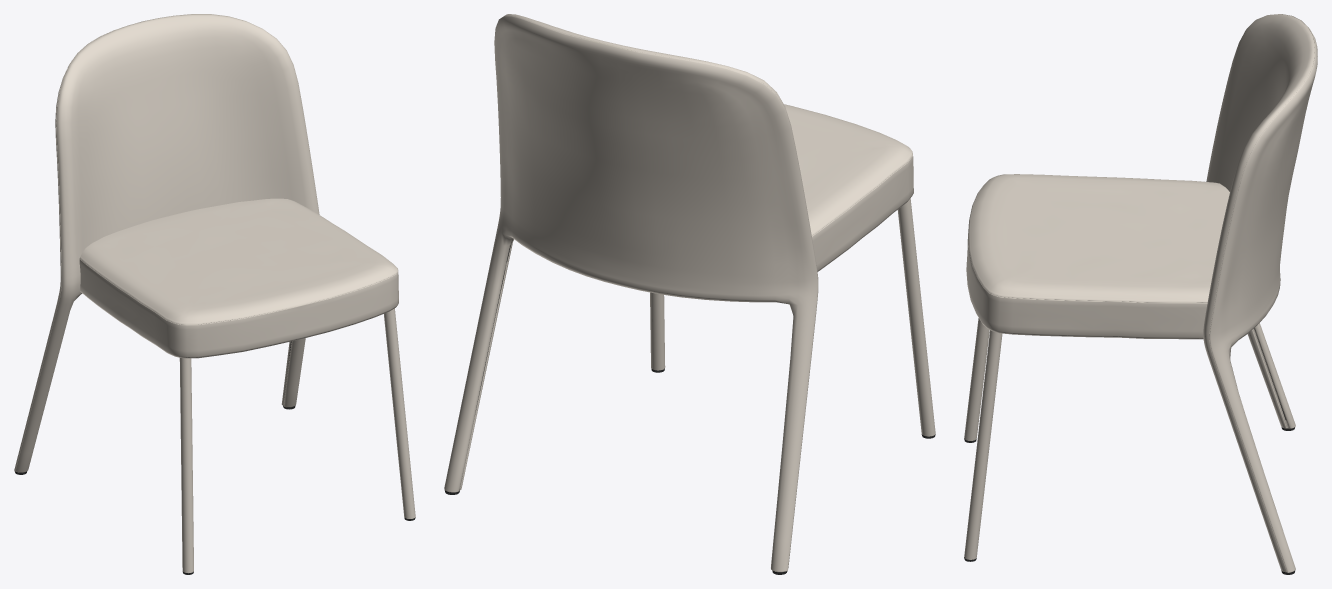
File: BHID01451.glb
3 views of the same model, side by side, from view 1: azimuth 30°, elevation 25°; view 2: azimuth 150°, elevation 25°; view 3: azimuth 270°, elevation 25° (orthographic). The views are drawn at different scales.
Parts seen in each view (by area): view 1: BP_BHID01451; view 2: BP_BHID01451; view 3: BP_BHID01451.
Part boxes in pixels (x1,y1,x2,y2): BP_BHID01451: (14, 14, 415, 574); BP_BHID01451: (444, 14, 935, 574); BP_BHID01451: (964, 14, 1317, 574).
Bounding box in the file's own units: 0.5317 × 0.7412 × 0.5272.
Materials: 2 (1 with a texture image).
